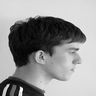ear: (32, 44, 51, 68)
